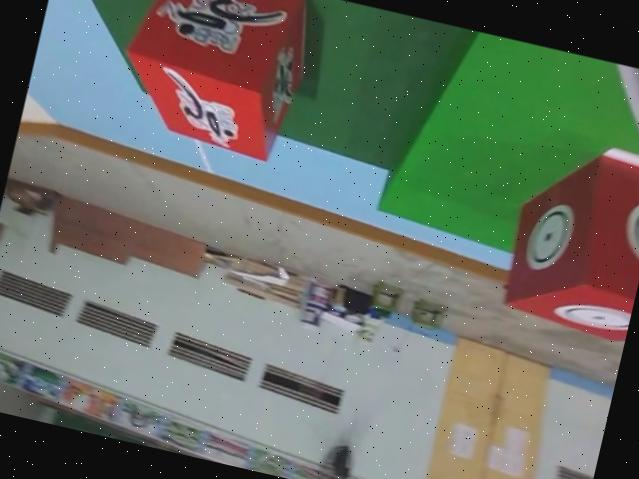R1: (110, 0, 321, 169)
R2 Real: (487, 134, 639, 347)
